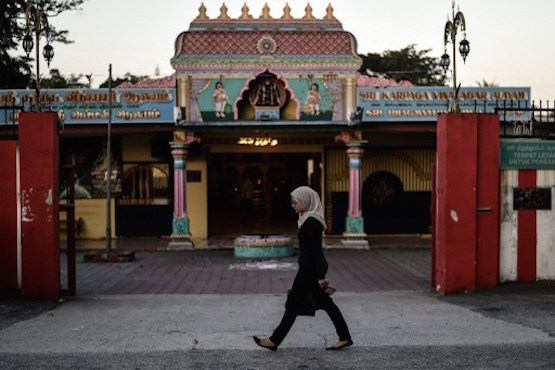Hindu Temple: (168, 5, 353, 122)
